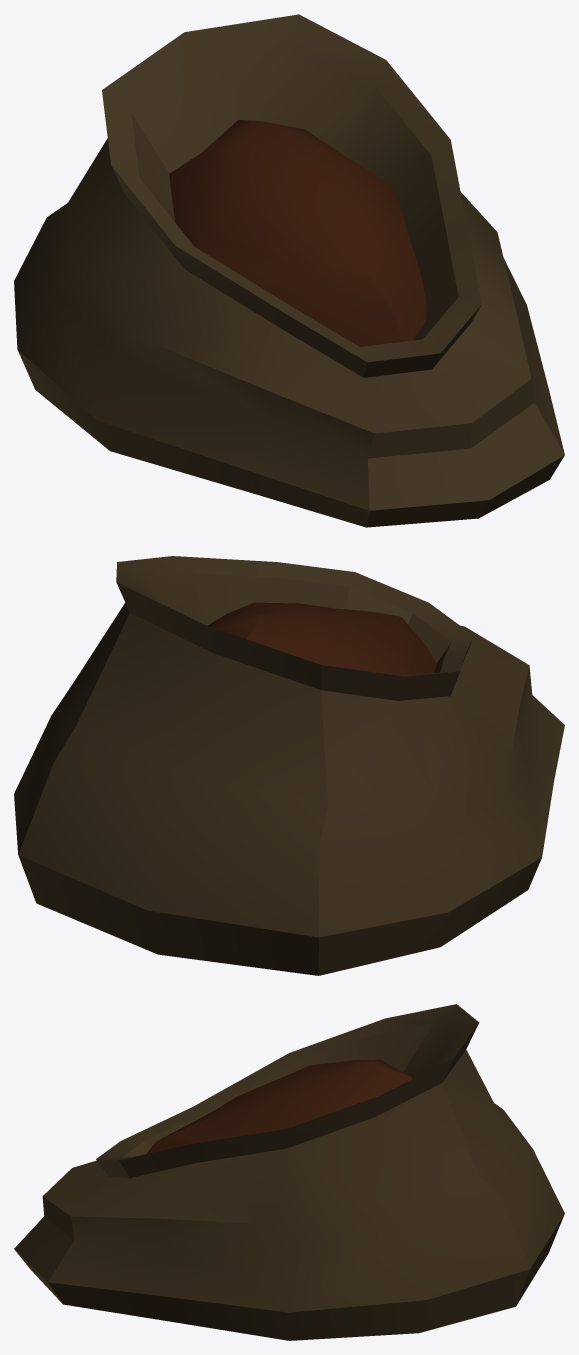
Rendered from Bag_Open.obj.
The picture shows the model from 3 angles, top to bottom: view 1: azimuth 30°, elevation 25°; view 2: azimuth 150°, elevation 25°; view 3: azimuth 270°, elevation 25°; orthographic projection. The views are drawn at different scales.
Visible parts, largest first — view 1: Bag_Open; view 2: Bag_Open; view 3: Bag_Open.
Part boxes in pixels (box(x1,y1,x2,y2)): Bag_Open: box(14, 14, 564, 527); Bag_Open: box(14, 556, 564, 975); Bag_Open: box(14, 1004, 564, 1340).
Size of the model in its own units: 0.1502 by 0.1044 by 0.2035.
